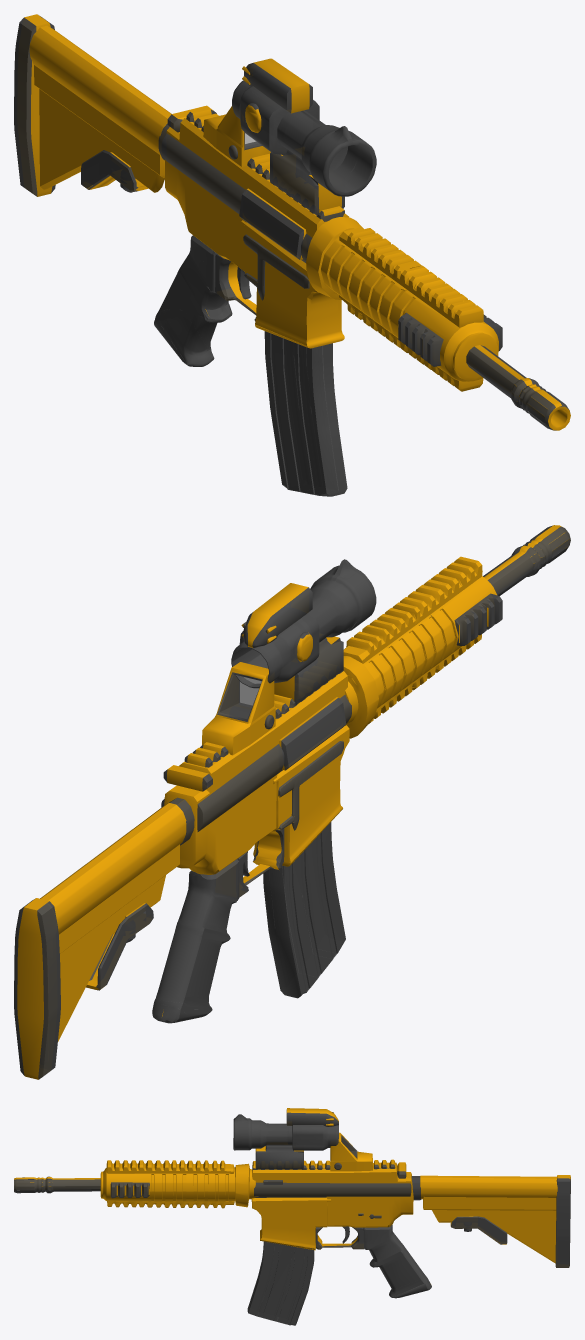
The model's file is AssaultRifleWithClip_v2.fbx.
The picture shows the model from 3 angles, top to bottom: view 1: azimuth 30°, elevation 25°; view 2: azimuth 150°, elevation 25°; view 3: azimuth 270°, elevation 25°; orthographic projection. The views are drawn at different scales.
Parts seen in each view (by area): view 1: vAssaultRifle_3, Scope, Clip, Scope2; view 2: vAssaultRifle_3, Scope, Clip, Scope2; view 3: vAssaultRifle_3, Scope, Clip, Scope2.
Boxes of the visible parts, x1=… form: vAssaultRifle_3: x1=14, y1=14, x2=570, y2=430; Scope: x1=232, y1=58, x2=376, y2=215; Clip: x1=264, y1=331, x2=347, y2=496; Scope2: x1=203, y1=106, x2=270, y2=166; vAssaultRifle_3: x1=14, y1=525, x2=570, y2=1079; Scope: x1=231, y1=559, x2=376, y2=704; Clip: x1=263, y1=822, x2=345, y2=998; Scope2: x1=202, y1=662, x2=275, y2=755; vAssaultRifle_3: x1=14, y1=1159, x2=570, y2=1298; Scope: x1=233, y1=1108, x2=338, y2=1169; Clip: x1=247, y1=1241, x2=314, y2=1325; Scope2: x1=330, y1=1132, x2=372, y2=1171.
Bounding box in the file's own units: 6.79 × 36.5 × 86.23.
